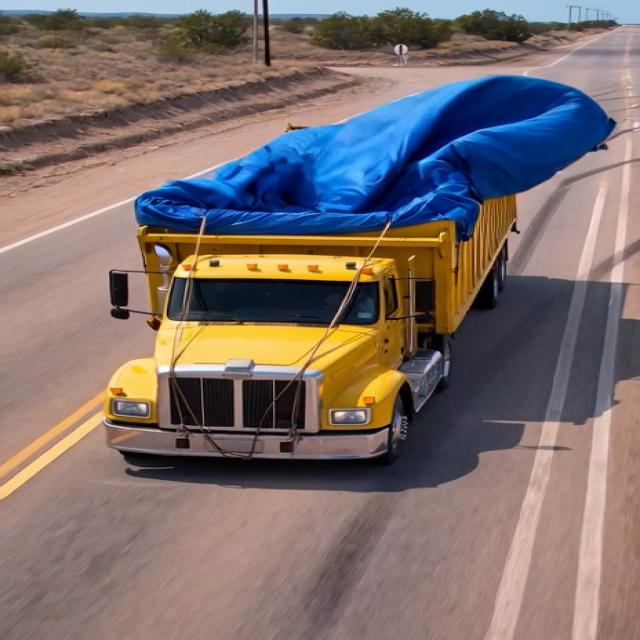trailer: (118, 140, 518, 246)
truck: (72, 96, 572, 479)
